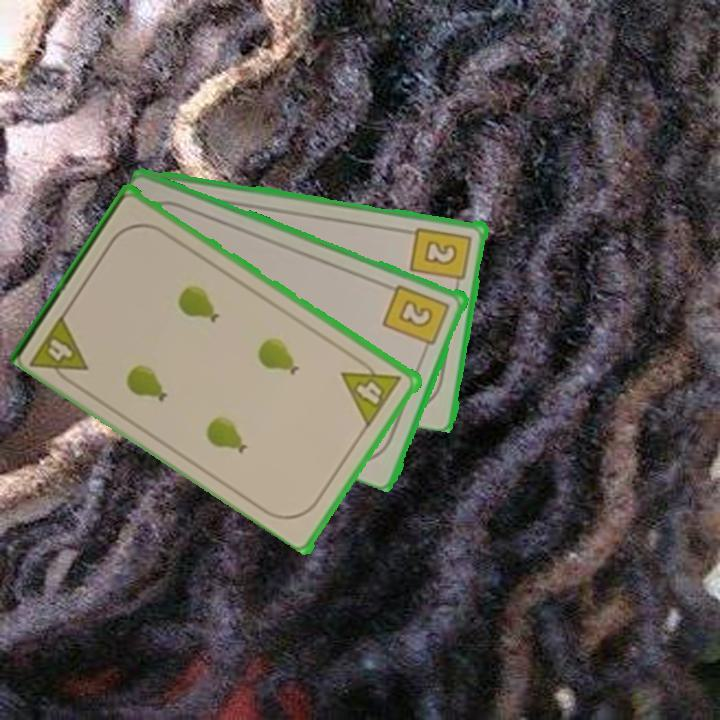2b: (380, 280, 453, 355), (408, 223, 475, 291)
4p: (27, 309, 92, 390), (339, 352, 405, 429)
